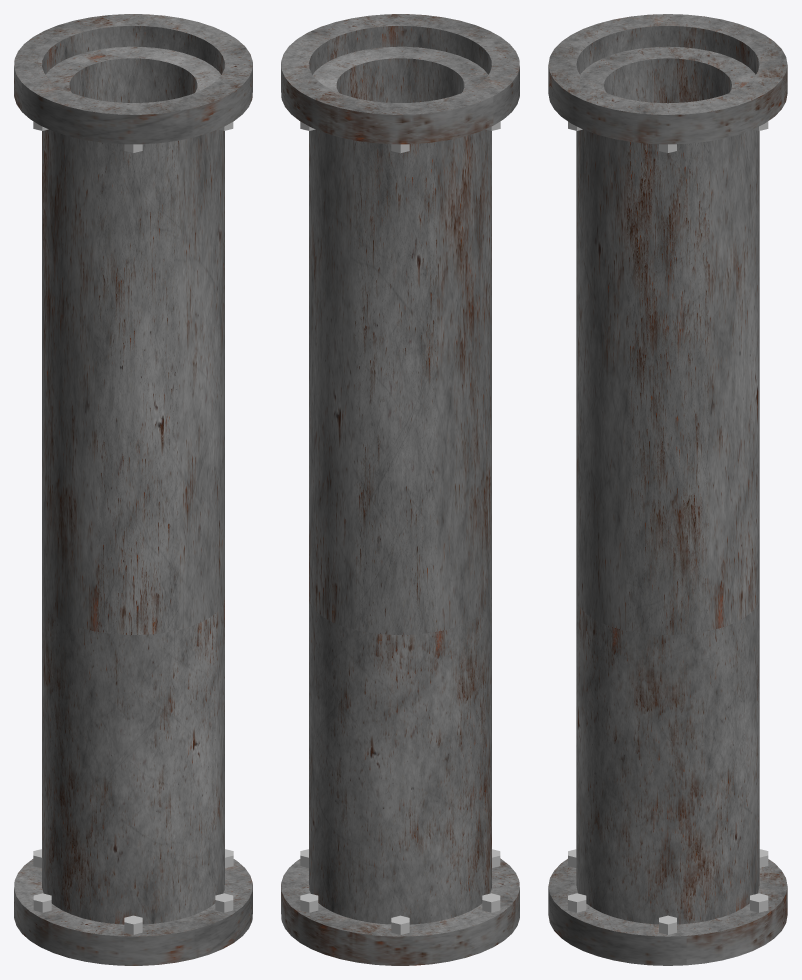
File: Straight_Pipe_Vertical.fbx
3 renders of one model, left to right at view 1: azimuth 30°, elevation 25°; view 2: azimuth 150°, elevation 25°; view 3: azimuth 270°, elevation 25°, orthographic.
Parts seen in each view (by area): view 1: pCylinder12; view 2: pCylinder12; view 3: pCylinder12.
Boxes of the visible parts, x1,y1,x2,y2 form: pCylinder12: [14, 14, 252, 965]; pCylinder12: [281, 14, 519, 965]; pCylinder12: [548, 14, 787, 965].
Bounding box in the file's own units: 1.02 × 4 × 1.02.
